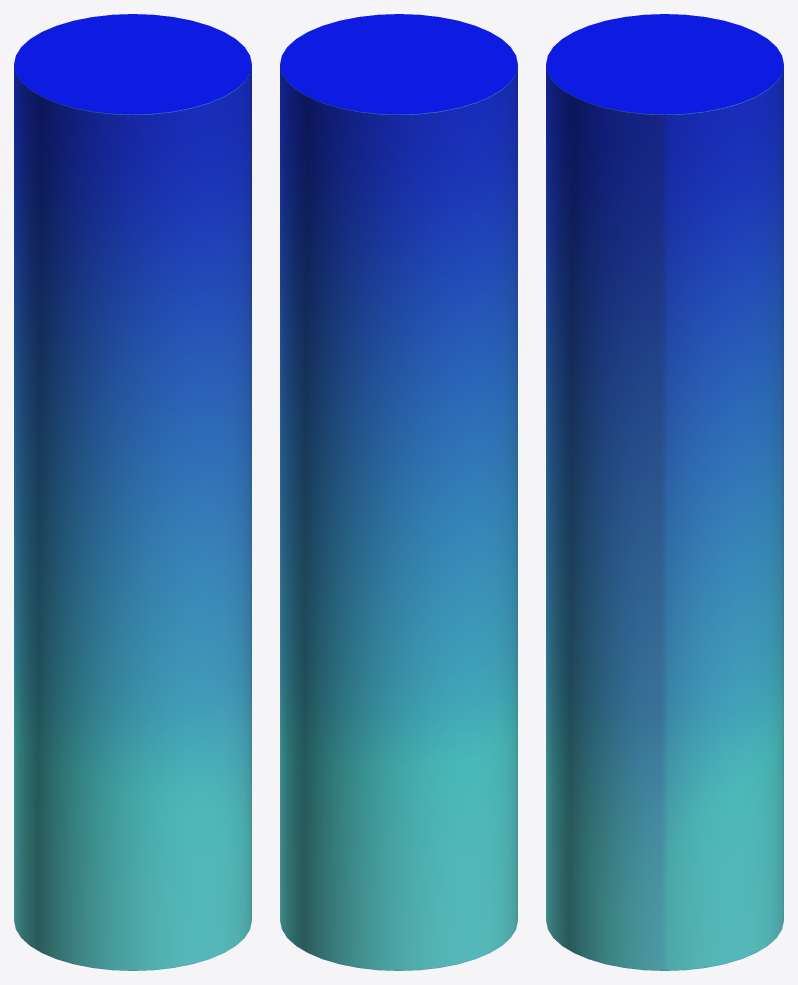
3 renders of one model, left to right at view 1: azimuth 30°, elevation 25°; view 2: azimuth 150°, elevation 25°; view 3: azimuth 270°, elevation 25°, orthographic.
Parts seen in each view (by area): view 1: 圆柱; view 2: 圆柱; view 3: 圆柱.
Boxes of the visible parts, x1,y1,x2,y2 form: 圆柱: (14, 14, 251, 970); 圆柱: (280, 14, 517, 970); 圆柱: (546, 14, 783, 970).
Size of the model in its own units: 13.99 by 55.59 by 13.99.
Materials: 2 (1 with a texture image).
